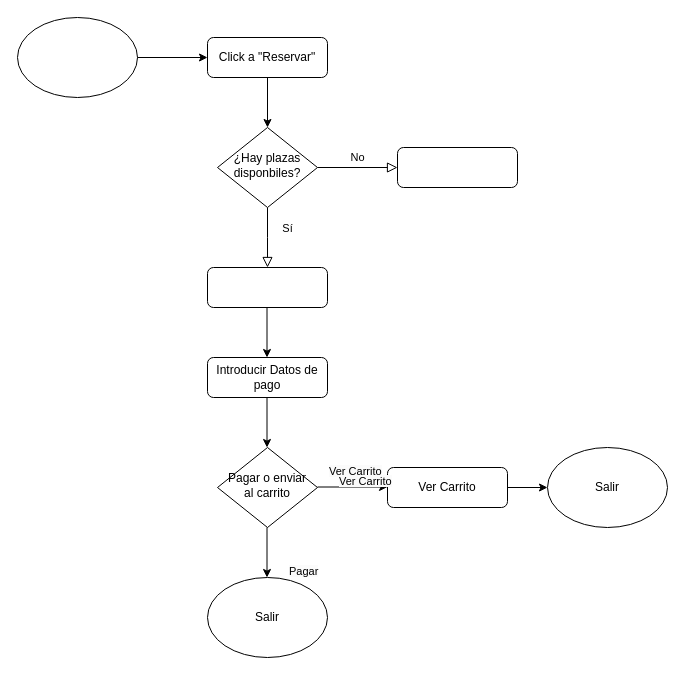
This 685x675 diagram has some shape labels left out. Each missing label, with the centre of its shape:
"Elegir taller" belongs at (x=77, y=57).
"Escoger Forma de pago" belongs at (x=267, y=287).
"Mostrar sugerencias similares" belongs at (x=457, y=167).
